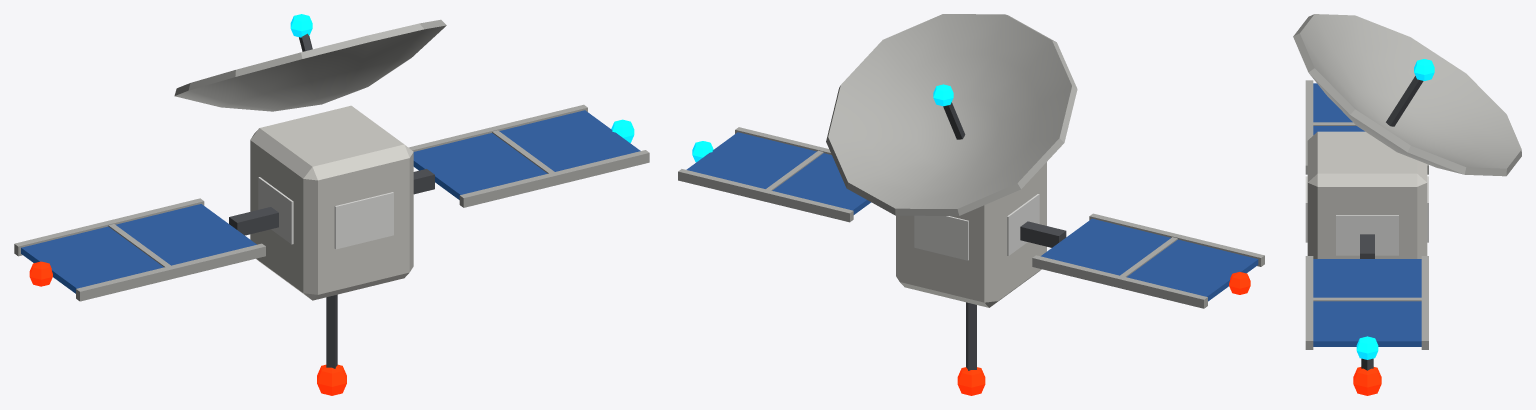
The model's file is satellite_a.glb.
The picture shows the model from 3 angles, left to right: view 1: azimuth 30°, elevation 25°; view 2: azimuth 150°, elevation 25°; view 3: azimuth 270°, elevation 25°; orthographic projection. The views are drawn at different scales.
Visible parts, largest first — view 1: sat_a; view 2: sat_a; view 3: sat_a.
Part boxes in pixels (x1,y1,x2,y2): sat_a: [14, 14, 649, 395]; sat_a: [678, 14, 1264, 395]; sat_a: [1293, 14, 1521, 395].
Bounding box in the file's own units: 2 × 1.22 × 0.6995.
